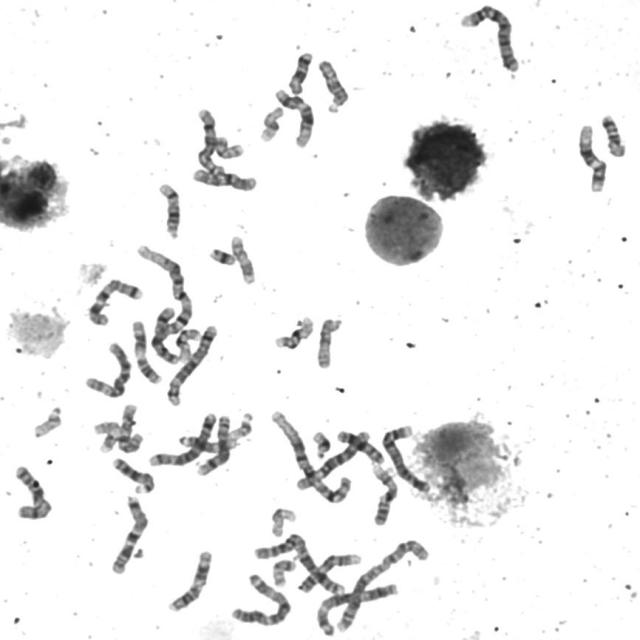A1: (267, 405, 354, 505), (131, 240, 196, 341)
A2: (332, 536, 432, 635), (251, 528, 348, 596)
A3: (310, 578, 400, 638), (227, 570, 293, 627)
B4: (457, 1, 522, 74), (378, 421, 432, 494)
B5: (163, 322, 220, 407), (146, 409, 220, 469)
C10: (188, 164, 258, 193), (115, 399, 145, 454)
C11: (165, 546, 214, 614), (128, 317, 163, 385)
C12: (272, 86, 316, 149), (575, 121, 608, 194)
C6: (291, 426, 372, 492), (81, 338, 133, 399)
C7: (106, 492, 150, 576), (83, 274, 145, 328)
C8: (193, 105, 225, 176), (149, 303, 182, 365)
C9: (295, 550, 363, 594), (368, 460, 401, 527)
D13: (332, 427, 386, 465), (108, 454, 156, 495)
D14: (154, 179, 183, 241), (174, 432, 241, 452)
D15: (314, 56, 350, 112), (314, 314, 344, 371)
E16: (270, 312, 316, 350), (172, 325, 201, 362)
E17: (227, 232, 258, 286), (88, 418, 124, 452)
E18: (284, 48, 315, 96), (598, 110, 627, 158)
F19: (256, 103, 286, 143), (266, 504, 298, 538)
F20: (270, 555, 298, 588), (210, 133, 244, 160)
G21: (205, 244, 238, 267), (309, 428, 332, 460)
G22: (30, 402, 64, 440), (226, 408, 256, 442)
X: (11, 462, 54, 522)
